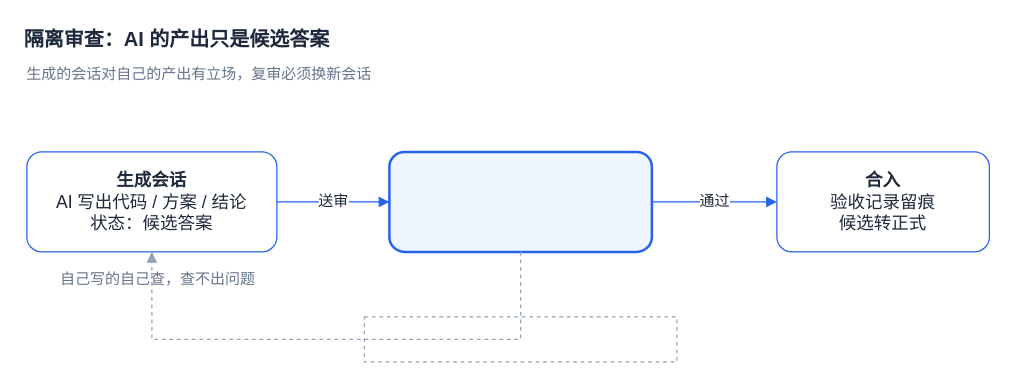
Some shapes in this 1011 by 384 pixel diagram are drawn without their labels. The shapes that lost their labels are listed below. From the top down, each one's centre as x and y in pixels, then its label:
pixel 520 201: 复审会话（新开） 立场干净的人或 AI 逐条对需求和测试负责
pixel 520 339: 不通过 ：带反馈回生成会话改
